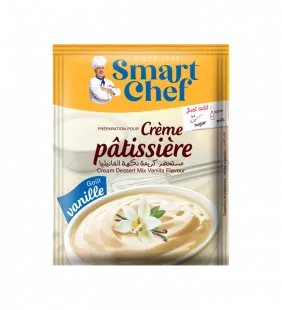Promotion: (43, 36, 237, 276)
